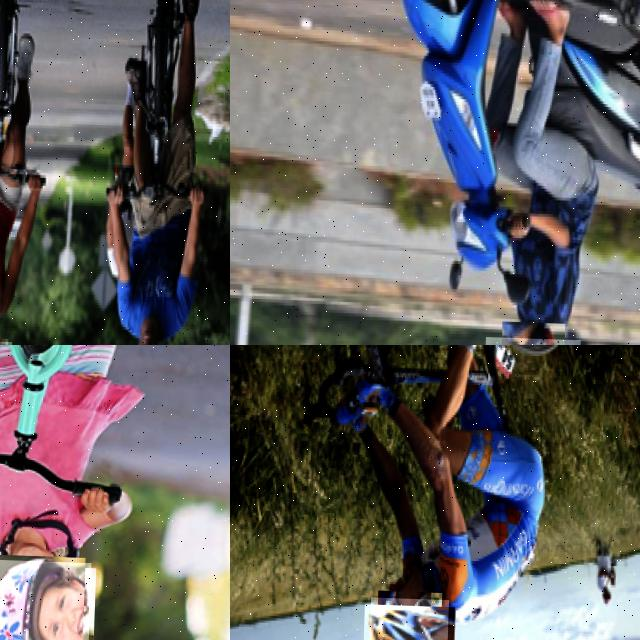helmet: (0, 557, 90, 640), (367, 595, 448, 640)
